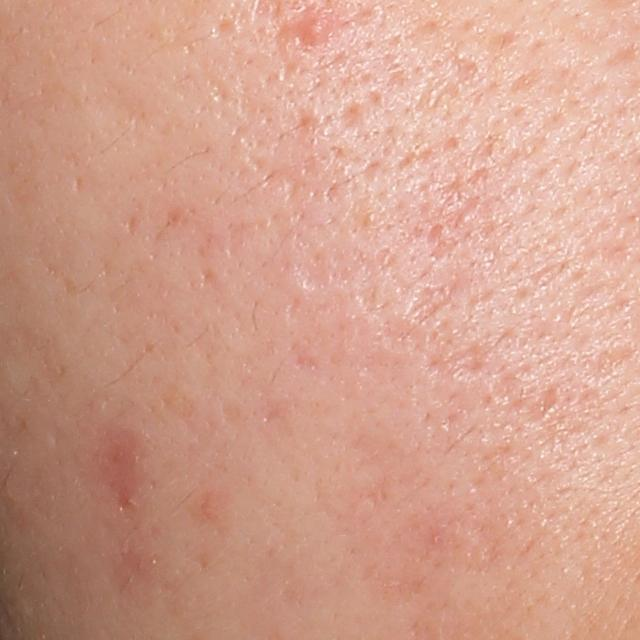atrophic_scar: (84, 78, 200, 162), (378, 280, 474, 362), (425, 341, 497, 386), (519, 385, 565, 434), (422, 220, 460, 269), (335, 99, 366, 140)
papule: (293, 3, 335, 48)
